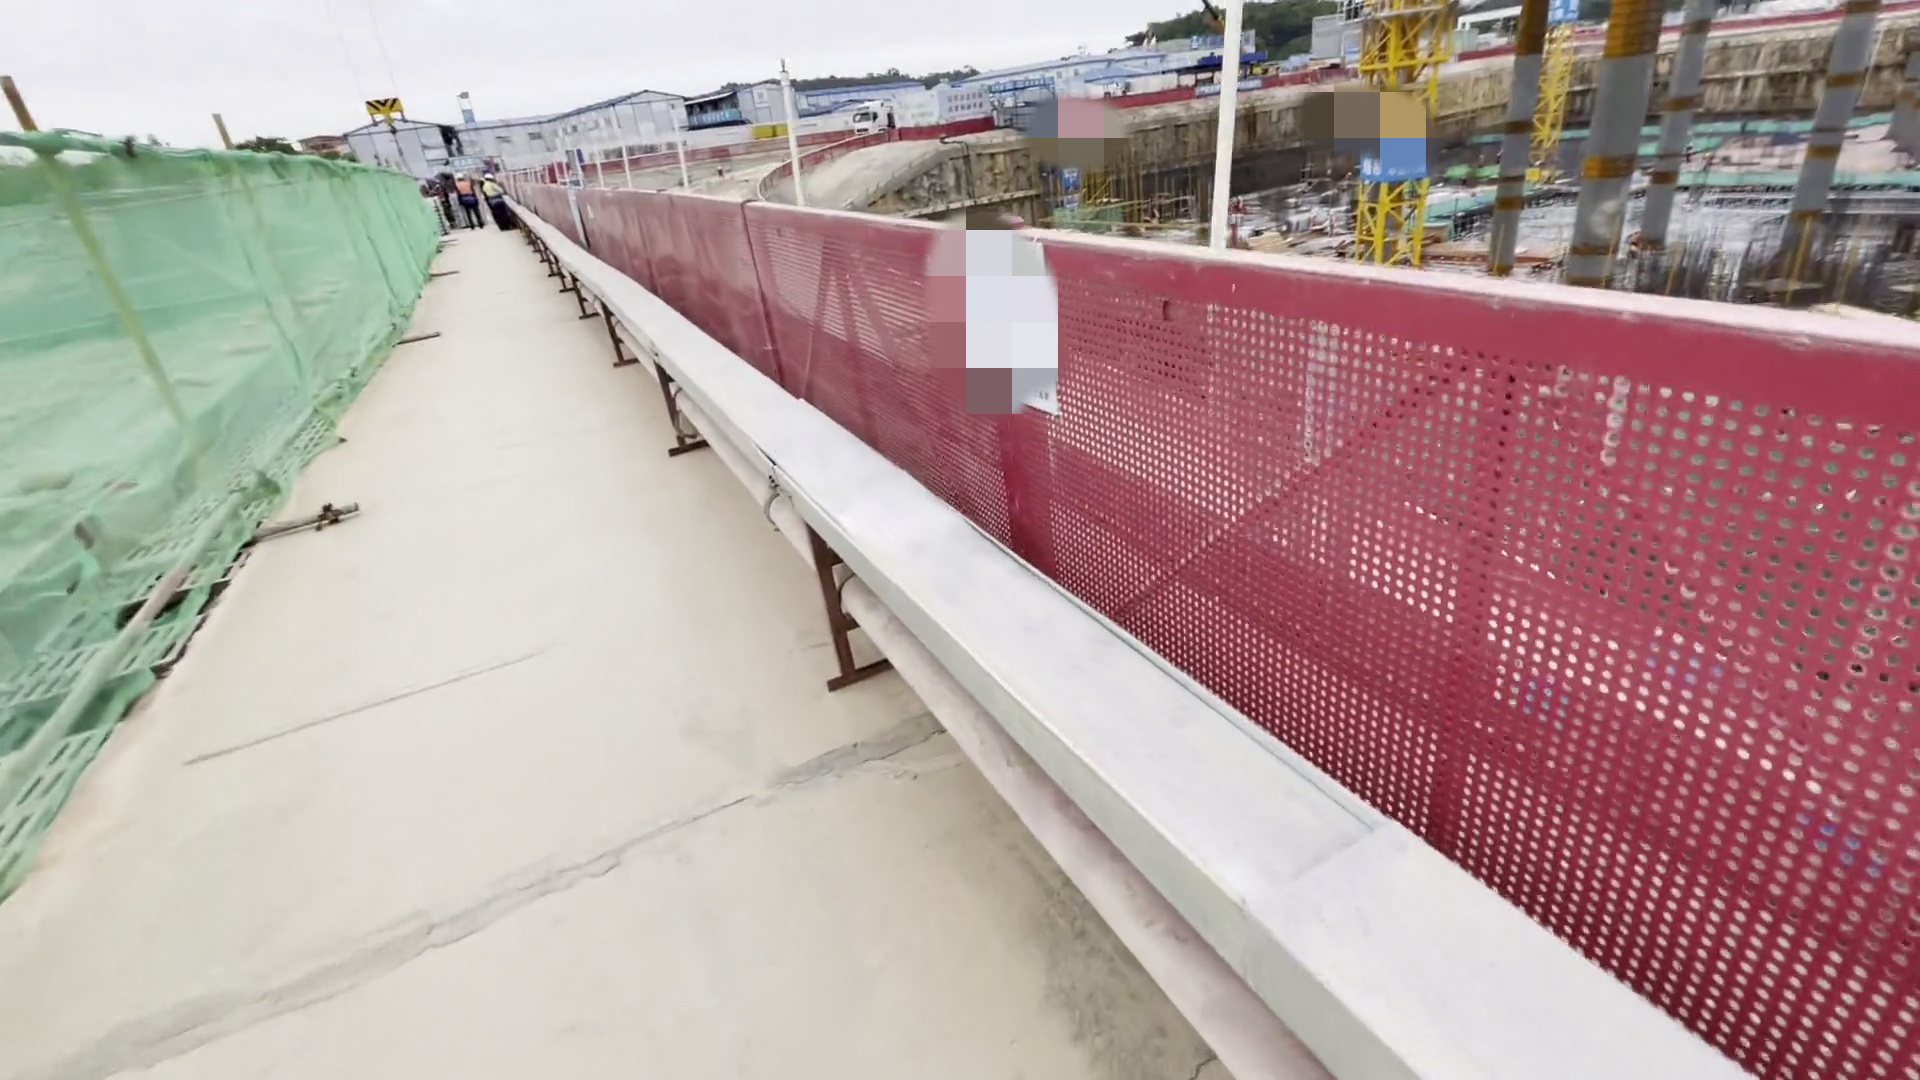fence: (499, 178, 1830, 1034)
helmet: (484, 175, 499, 185), (455, 171, 464, 183)
hook: (365, 93, 436, 148)
person: (474, 168, 522, 239), (447, 158, 491, 238)
vest: (481, 179, 508, 212), (459, 182, 476, 208)
